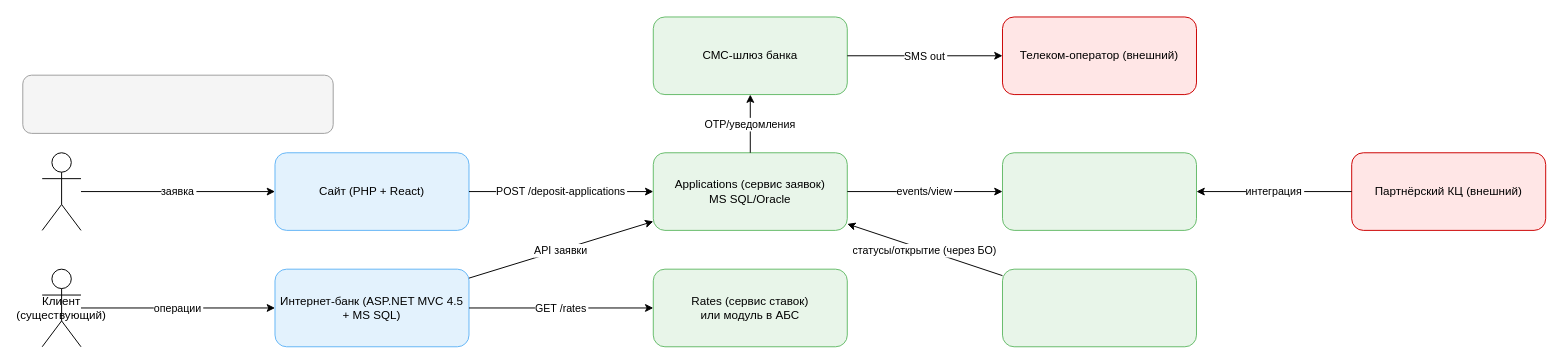
Some shapes in this 1563 by 364 pixel diagram are drawn without their labels. The centre of each missing label's shape, as x and y in pixels:
"АБС (Delphi клиент + Oracle/PL‑SQL)" belongs at [1099,307].
"Внутренние — синие/зелёные; внешние — красные" belongs at [177,103].
"Клиент (новый)" belongs at [61,191].
"Контакт‑центр (React+Spring+PostgreSQL)" belongs at [1099,191].
